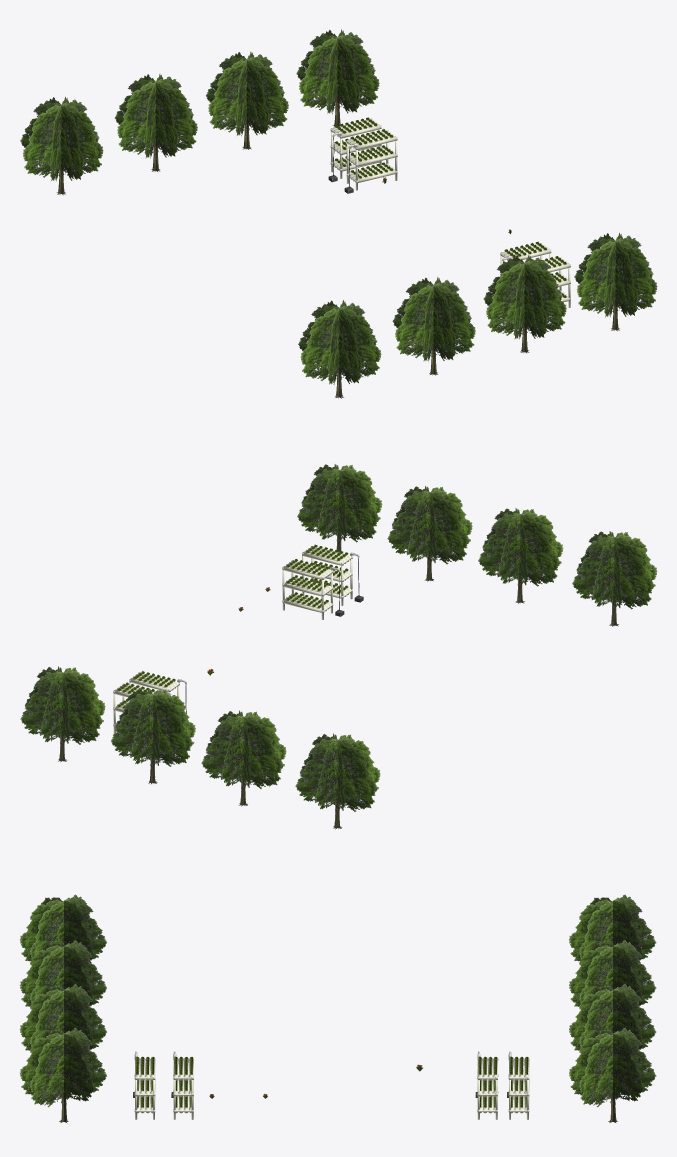
Rendered from arbol.fbx.
3 renders of one model, top to bottom at view 1: azimuth 30°, elevation 25°; view 2: azimuth 150°, elevation 25°; view 3: azimuth 270°, elevation 25°, orthographic.
Parts seen in each view (by area): view 1: Copia, Plane.026, Plane.045, Plane.030, Plane.049, Plane.050, Plane.034, Plane.017, Plane.041, Plane.036, Plane.020, Plane.052 (+24 smaller); view 2: Copia.002, Plane.026, Plane.050, Plane.045, Plane.049, Plane.041, Plane.017, Plane.030, Plane.034, Plane.051, Plane.016, Plane.031 (+15 smaller); view 3: Plane.036, Plane.039, Plane.037, Plane.038, Plane.040, Plane.035, Plane.053, Plane.042, Plane.014, Plane.046, Plane.033, Plane.029 (+16 smaller).
Boxes of the visible parts, <box> form: Copia: <box>344,129,397,193</box>; Plane.026: <box>395,279,471,374</box>; Plane.045: <box>208,54,284,149</box>; Plane.030: <box>486,257,562,352</box>; Plane.049: <box>117,76,193,171</box>; Plane.050: <box>22,99,99,194</box>; Plane.034: <box>576,235,653,330</box>; Plane.017: <box>300,302,377,397</box>; Plane.041: <box>299,32,375,127</box>; Plane.036: <box>574,236,657,330</box>; Plane.020: <box>298,303,381,397</box>; Plane.052: <box>20,100,103,194</box>; Copia.002: <box>282,559,344,619</box>; Plane.026: <box>482,508,558,603</box>; Plane.050: <box>300,734,375,828</box>; Plane.045: <box>115,689,190,783</box>; Plane.049: <box>206,711,281,805</box>; Plane.041: <box>25,667,100,761</box>; Plane.017: <box>576,531,652,626</box>; Plane.030: <box>392,486,468,581</box>; Plane.034: <box>301,464,377,551</box>; Plane.051: <box>295,737,380,828</box>; Plane.016: <box>572,535,657,625</box>; Plane.031: <box>387,490,472,580</box>; Plane.036: <box>30,1027,90,1122</box>; Plane.039: <box>579,1028,639,1122</box>; Plane.037: <box>20,1031,106,1121</box>; Plane.038: <box>569,1032,656,1121</box>; Plane.040: <box>590,1030,643,1122</box>; Plane.035: <box>41,1030,94,1123</box>; Plane.053: <box>569,898,656,961</box>; Plane.042: <box>569,988,656,1050</box>; Plane.014: <box>19,898,106,961</box>; Plane.046: <box>569,944,656,1006</box>; Plane.033: <box>19,988,106,1050</box>; Plane.029: <box>19,944,106,1006</box>.
Bounding box in the file's own units: 1907 × 469 × 2983.
45 materials, 45 textured.
